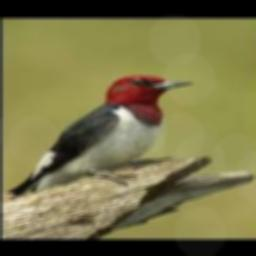Woodpecker: (7, 75, 194, 197)
